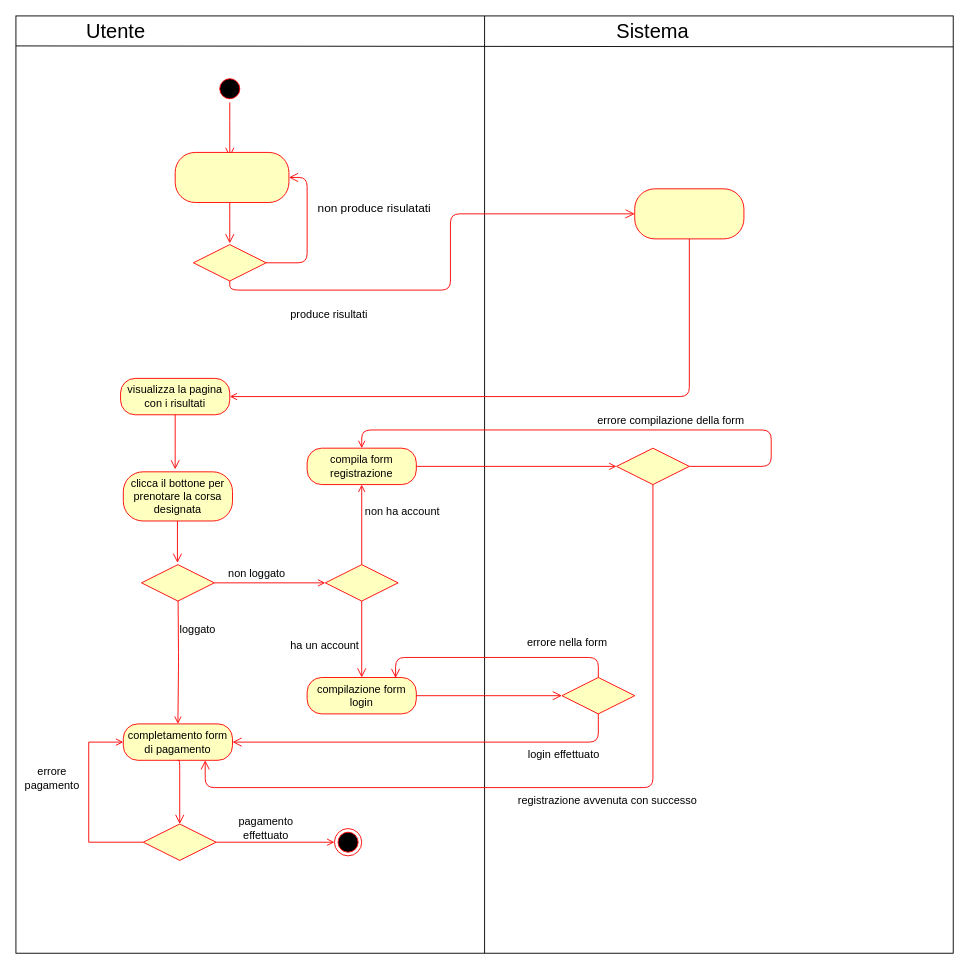
This 970x970 diagram has some shape labels left out. The box of each missing label's shape, as (x1, y1, x2, y2) in pixels:
Compilazione campi form per la ricerca di una corsa: (174, 152, 289, 202)
Elaborazione risultati con interfaccia annessa: (634, 188, 744, 239)
